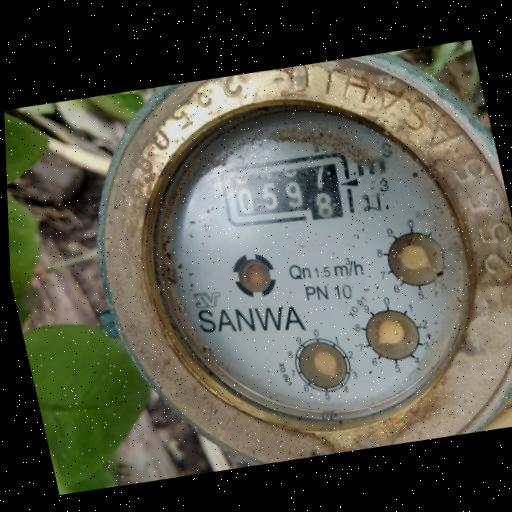0: (230, 172, 262, 219)
5: (249, 168, 285, 216)
7: (300, 161, 347, 223)
9: (273, 165, 313, 215)
border_water_meter_number: (213, 140, 361, 239)
